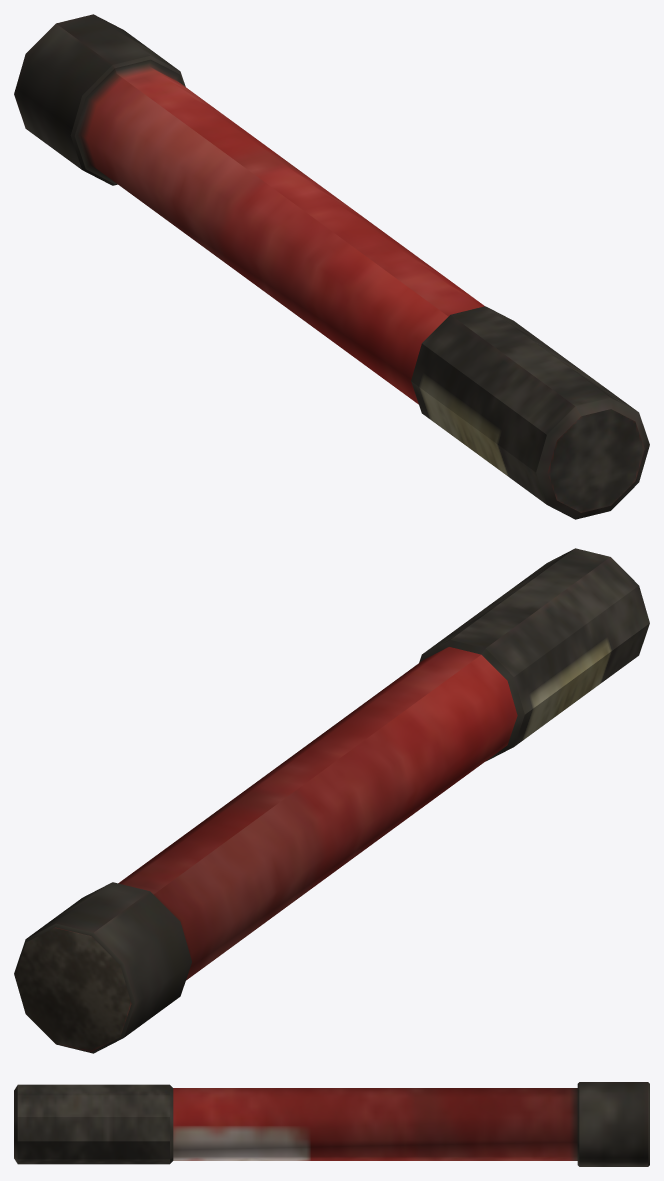
File: item_flare.dae
3 views of the same model, one above another, from view 1: azimuth 30°, elevation 25°; view 2: azimuth 150°, elevation 25°; view 3: azimuth 270°, elevation 25° (orthographic). The views are drawn at different scales.
Visible parts, largest first — view 1: flare; view 2: flare; view 3: flare.
Part boxes in pixels (x1=…): flare: x1=14, y1=14, x2=649, y2=519; flare: x1=14, y1=548, x2=649, y2=1053; flare: x1=14, y1=1082, x2=649, y2=1166.
Size of what is drawn, in the model's own units: 0.0354 by 0.0337 by 0.264.
Materials: 1 (1 with a texture image).
